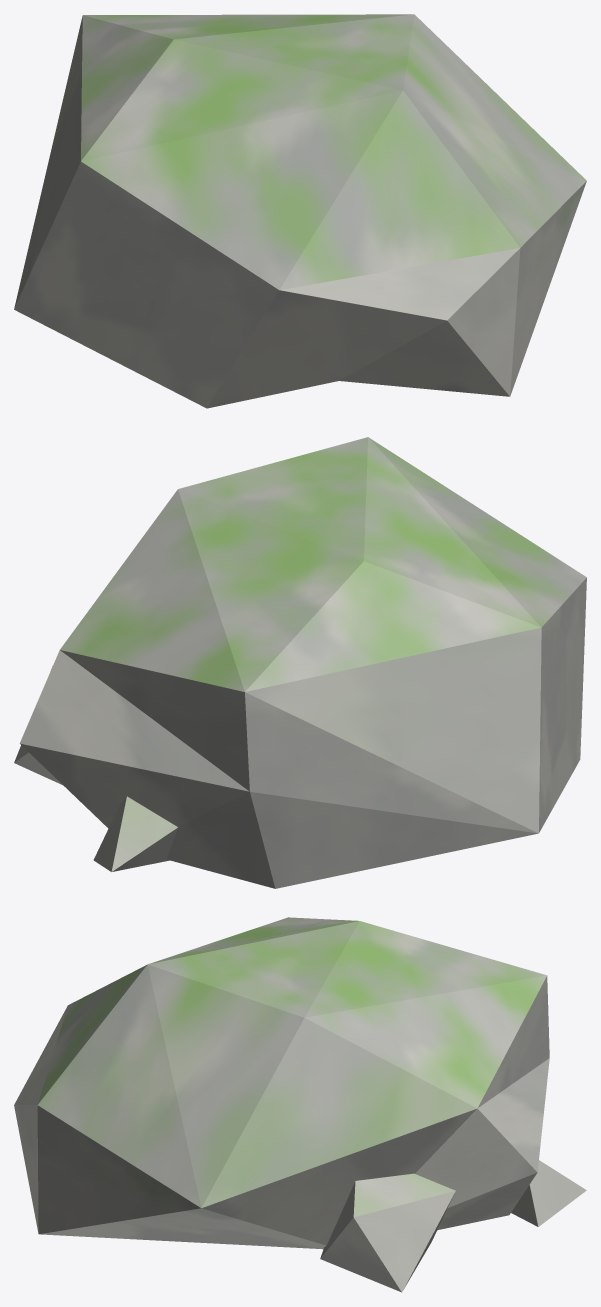
File: rock_b_lod1.gltf
3 renders of one model, top to bottom at view 1: azimuth 30°, elevation 25°; view 2: azimuth 150°, elevation 25°; view 3: azimuth 270°, elevation 25°, orthographic. The views are drawn at different scales.
Parts seen in each view (by area): view 1: rock_b_LOD1; view 2: rock_b_LOD1; view 3: rock_b_LOD1.
Boxes of the visible parts, bbox=[...] form: rock_b_LOD1: bbox=[14, 14, 586, 408]; rock_b_LOD1: bbox=[14, 437, 586, 888]; rock_b_LOD1: bbox=[14, 917, 586, 1292].
Bounding box in the file's own units: 1.75 × 0.9333 × 1.95.
1 material, 1 textured.
